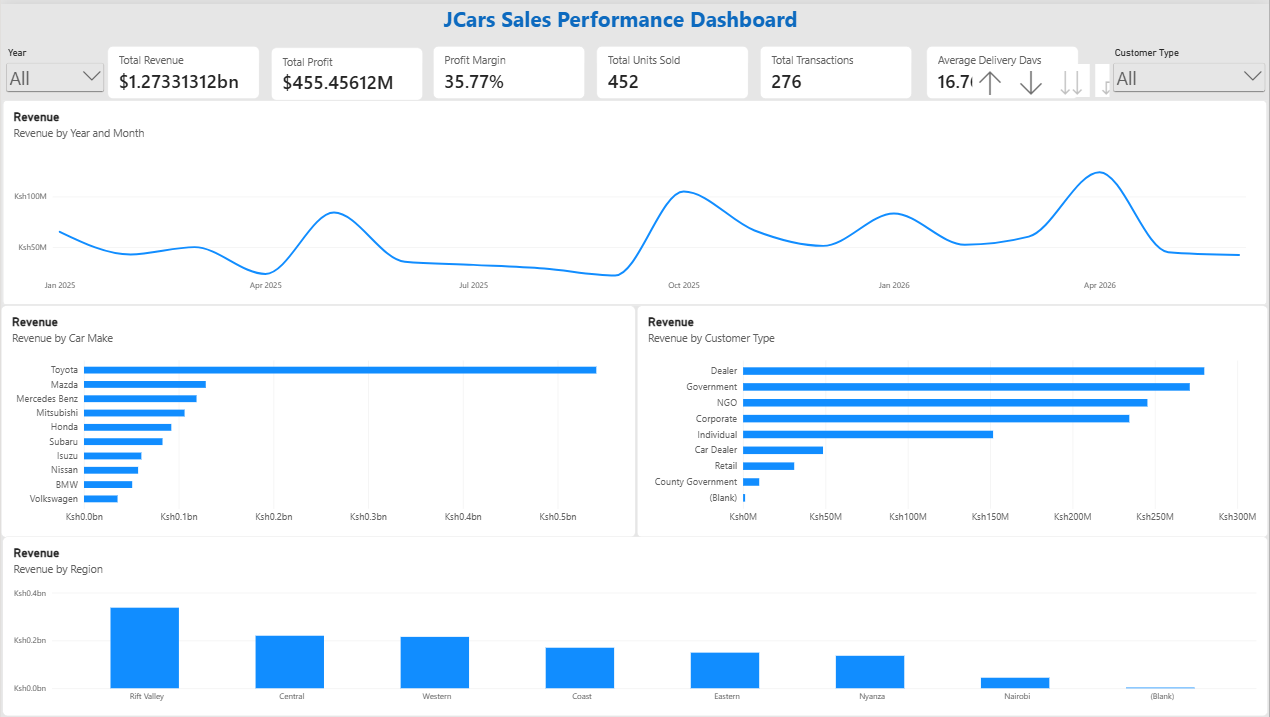

The page's visual inventory and layout, read from the dashboard file:
{"tool":"powerbi","page":{"name":"Overview","canvas":[1920,1080],"ordinal":0},"visuals":[{"type":"textbox","box":[669,0,731.3,85],"z":0},{"type":"cardVisual","fields":{"Data":["Fact Sales.Total Revenue"]},"box":[161.3,63.6,230,80],"z":1000},{"type":"cardVisual","fields":{"Data":["Fact Sales.Total Profit"]},"box":[408.8,65.9,230,80],"z":2000},{"type":"cardVisual","fields":{"Data":["Fact Sales.Profit Margin"]},"box":[654.1,63.6,230,80],"z":3000},{"type":"cardVisual","fields":{"Data":["Fact Sales.Total Units Sold"]},"box":[901.7,63.6,230,80],"z":4000},{"type":"cardVisual","fields":{"Data":["Fact Sales.Total Transactions"]},"box":[1149.3,63.6,230,80],"z":5000},{"type":"cardVisual","fields":{"Data":["Fact Sales.Average Delivery Days"]},"box":[1401.4,63.6,230,80],"z":6000},{"type":"clusteredBarChart","title":"Revenue","fields":{"Category":["Dim Vehicle.Car Make"],"Y":["Fact Sales.Total Revenue"]},"box":[0,456.4,961,351.5],"z":7000},{"type":"clusteredBarChart","title":"Revenue","fields":{"Category":["Dim Customer.Customer Type"],"Y":["Fact Sales.Total Revenue"]},"box":[963.8,456.4,955.3,351.5],"z":8000},{"type":"clusteredColumnChart","title":"Revenue","fields":{"Category":["Dim Location.Region"],"Y":["Fact Sales.Total Revenue"]},"box":[2.3,806.3,1916.2,272.1],"z":9000},{"type":"lineChart","title":"Revenue","fields":{"Category":["Dim Date.Date.Variation.Date Hierarchy.Year","Dim Date.Date.Variation.Date Hierarchy.Month"],"Y":["Fact Sales.Total Revenue"]},"box":[2.3,145.4,1914.7,311.2],"z":10000},{"type":"slicer","fields":{"Values":["Dim Date.Year"]},"box":[2.3,65.9,159,79.5],"z":11000},{"type":"slicer","fields":{"Values":["Dim Customer.Customer Type"]},"box":[1678.5,65.9,240.8,79.5],"z":12000}]}

Visuals, with their boxes in screenshot pixels (x1, y1, x2, y2), scaled from the page's 1920x1080 canvas onto the 1270x717 screenshot:
textbox: (left=443, top=0, right=926, bottom=56)
cardVisual - Fact Sales.Total Revenue: (left=107, top=42, right=259, bottom=95)
cardVisual - Fact Sales.Total Profit: (left=270, top=44, right=423, bottom=97)
cardVisual - Fact Sales.Profit Margin: (left=433, top=42, right=585, bottom=95)
cardVisual - Fact Sales.Total Units Sold: (left=596, top=42, right=749, bottom=95)
cardVisual - Fact Sales.Total Transactions: (left=760, top=42, right=912, bottom=95)
cardVisual - Fact Sales.Average Delivery Days: (left=927, top=42, right=1079, bottom=95)
"Revenue" clusteredBarChart: (left=0, top=303, right=636, bottom=536)
"Revenue" clusteredBarChart: (left=638, top=303, right=1269, bottom=536)
"Revenue" clusteredColumnChart: (left=2, top=535, right=1269, bottom=716)
"Revenue" lineChart: (left=2, top=97, right=1268, bottom=303)
slicer - Dim Date.Year: (left=2, top=44, right=107, bottom=97)
slicer - Dim Customer.Customer Type: (left=1110, top=44, right=1269, bottom=97)
